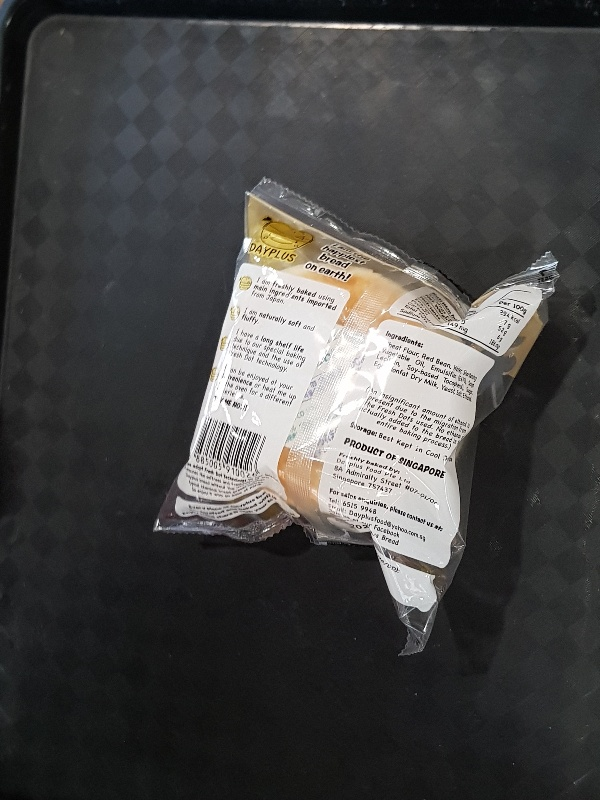Dayplus Red Bean: (149, 174, 559, 657)
